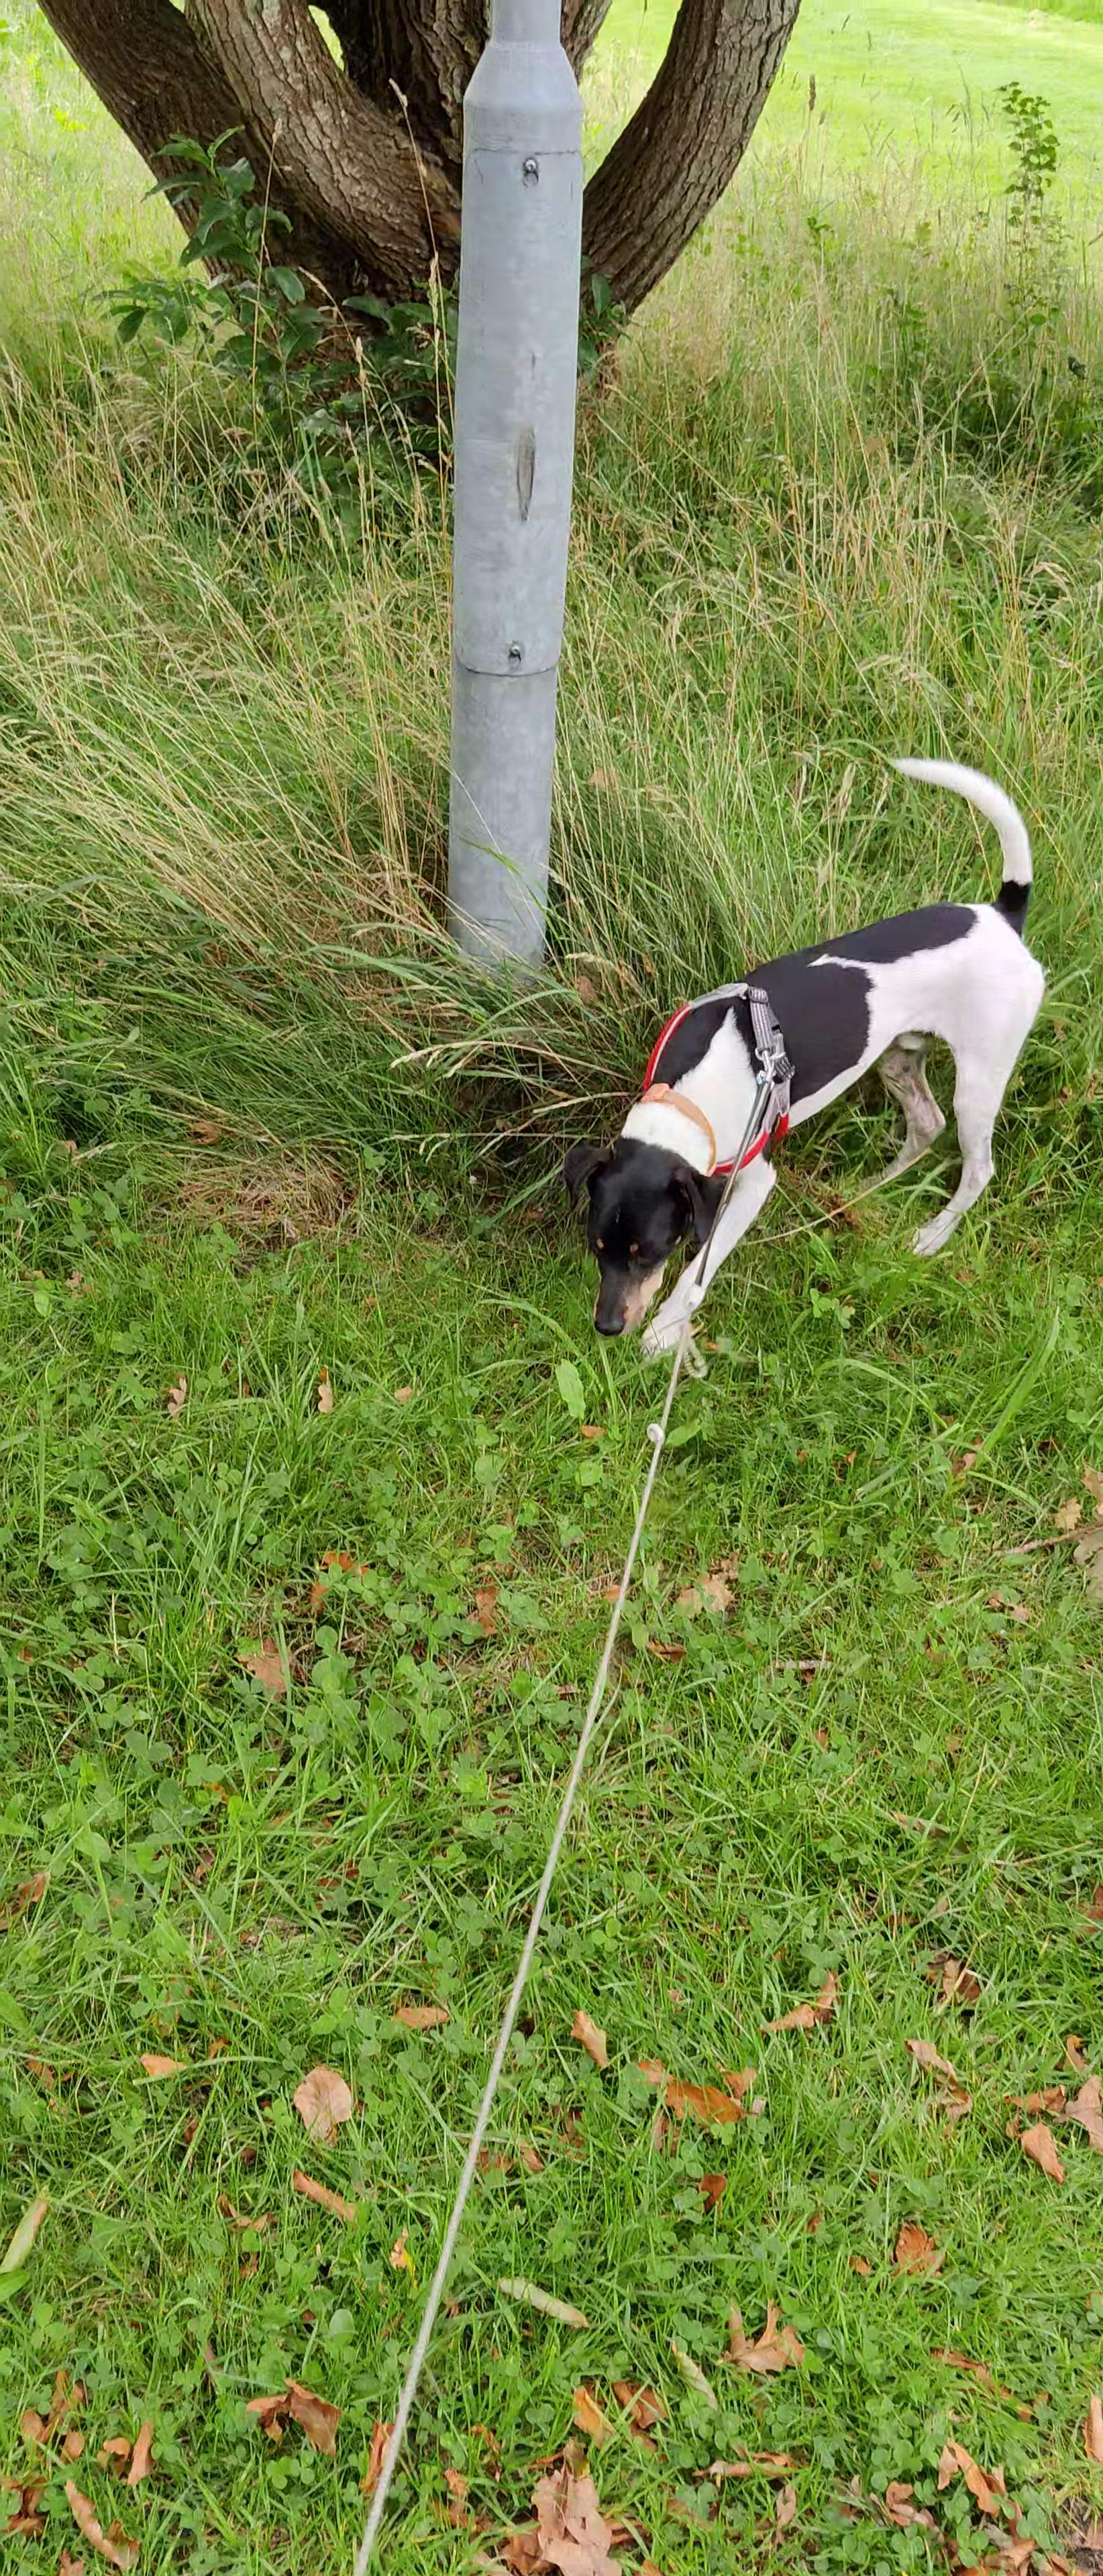Dog: (544, 746, 1054, 1390)
